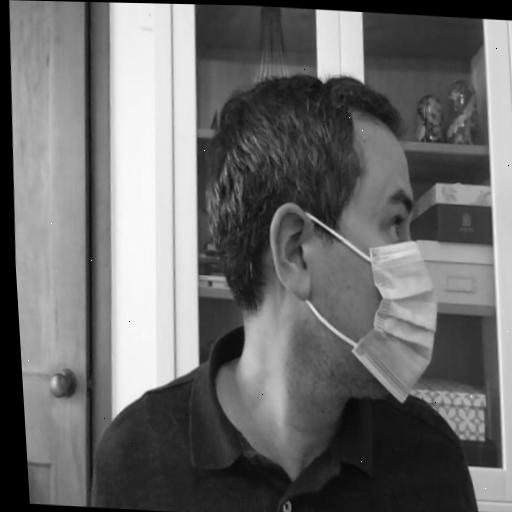mask: (192, 67, 451, 417)
